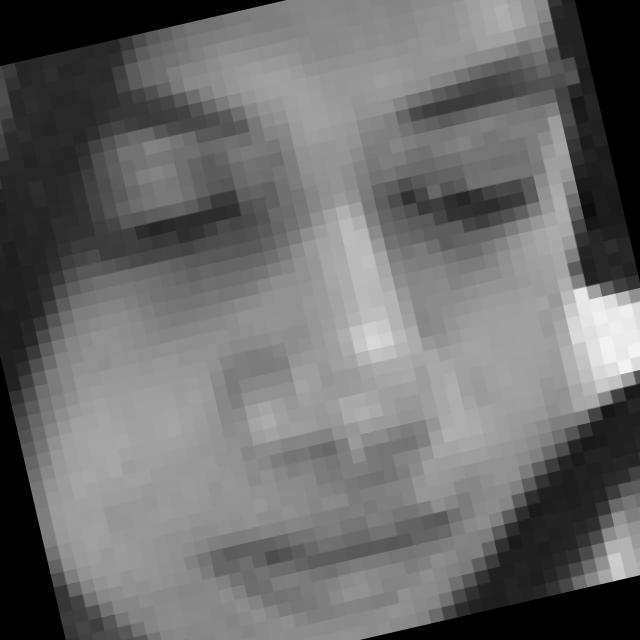sad: (43, 2, 640, 640)
